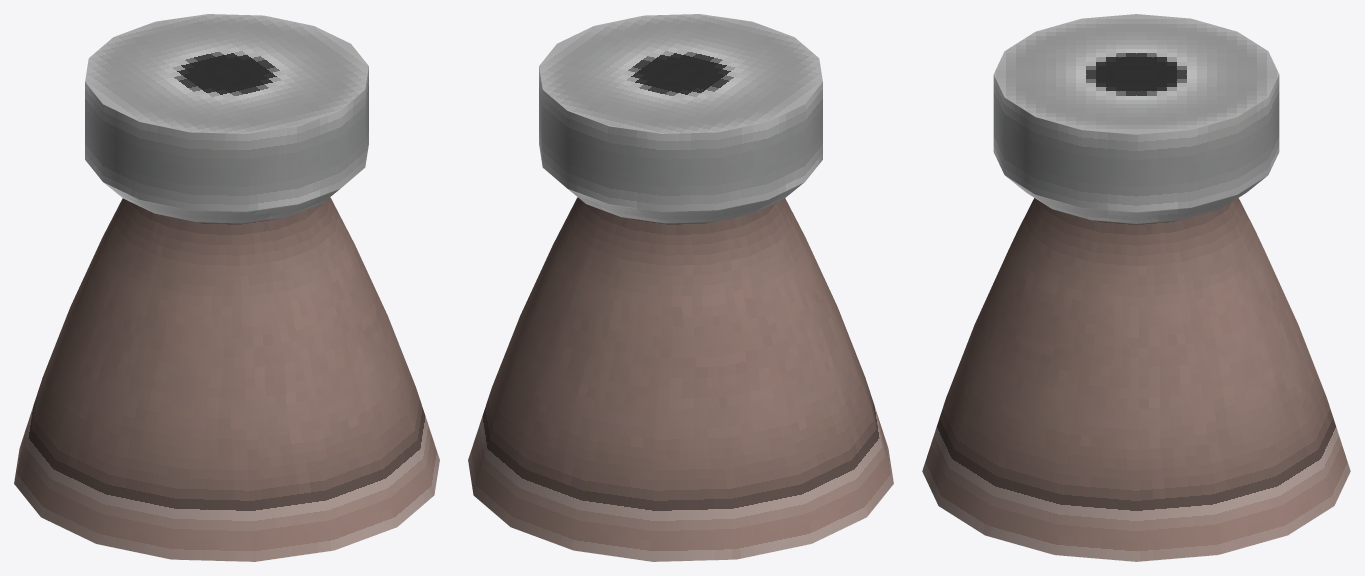
The model's file is Eridani_Engine_1.obj.
3 renders of one model, left to right at view 1: azimuth 30°, elevation 25°; view 2: azimuth 150°, elevation 25°; view 3: azimuth 270°, elevation 25°, orthographic.
Parts seen in each view (by area): view 1: Eridani_Engine_1; view 2: Eridani_Engine_1; view 3: Eridani_Engine_1.
Part boxes in pixels (x1,y1,x2,y2): Eridani_Engine_1: [14, 14, 439, 561]; Eridani_Engine_1: [468, 14, 893, 561]; Eridani_Engine_1: [922, 14, 1350, 561].
Bounding box in the file's own units: 0.225 × 0.23 × 0.225.
